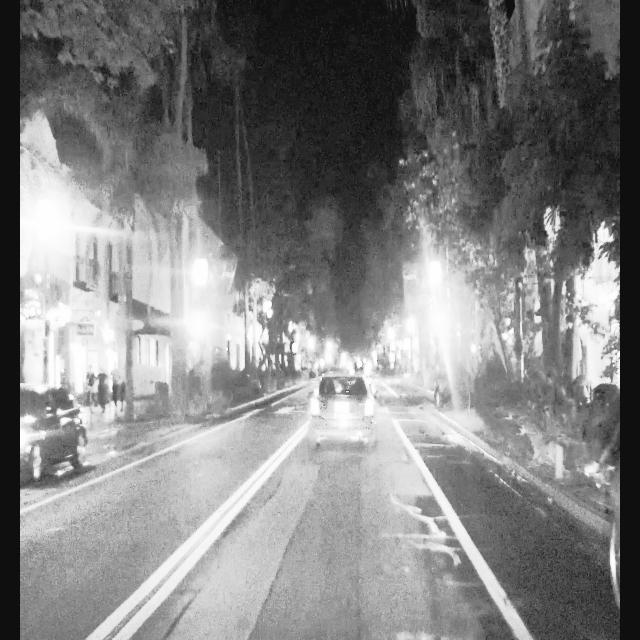Car: (305, 368, 375, 458), (21, 386, 89, 478)
Tree: (529, 0, 590, 463)
